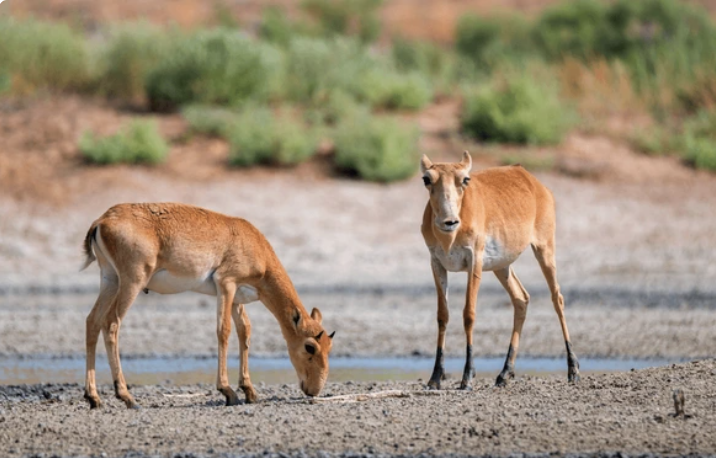saiga: (72, 196, 340, 410), (399, 150, 580, 384)
